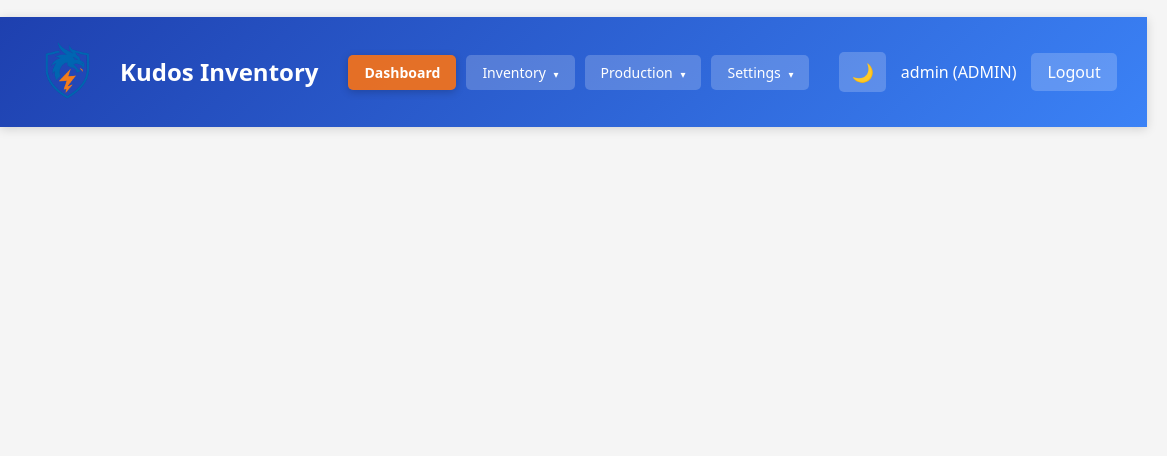
Navbar › opens the Inventory menu on click and switches views on selection
Click the button "Inventory ▾": (520,72) [466, 54, 575, 90]
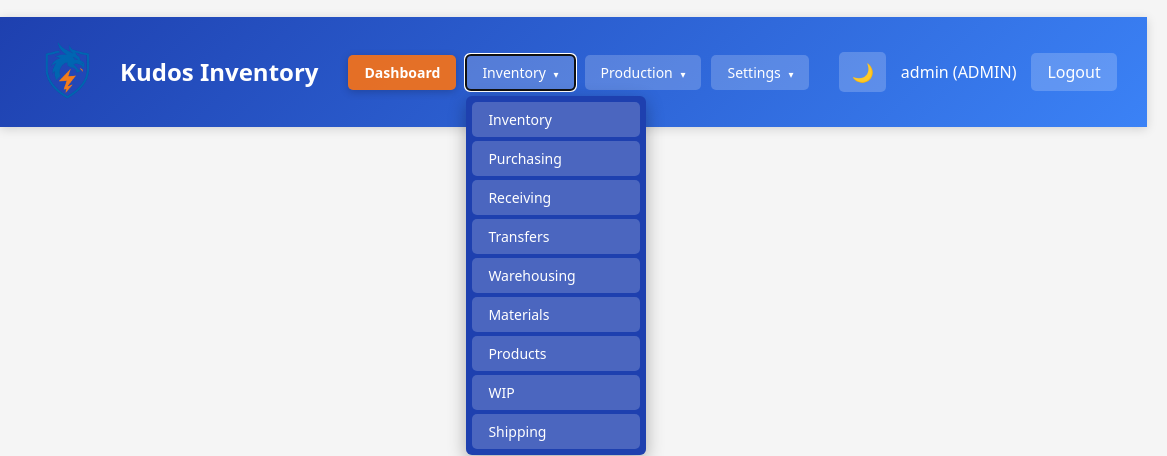
Expected: the menu is shown, [466, 96, 646, 454]
Expected: the menu item "Inventory" is shown, [472, 102, 640, 136]
Expected: the menu item "Purchasing" is shown, [472, 140, 640, 176]
Click the menu item "Transfers": (556,236) [472, 218, 640, 254]
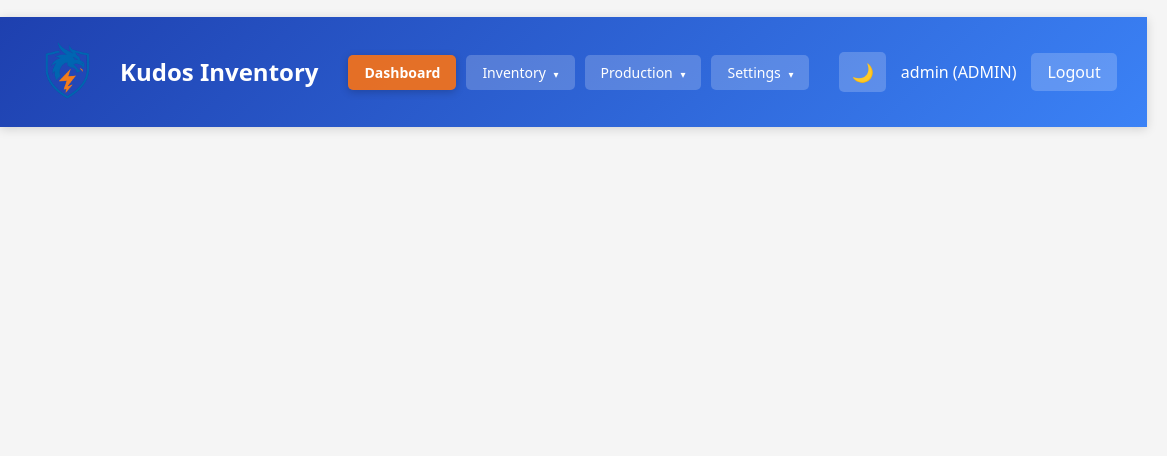
Expected: the menu is gone
